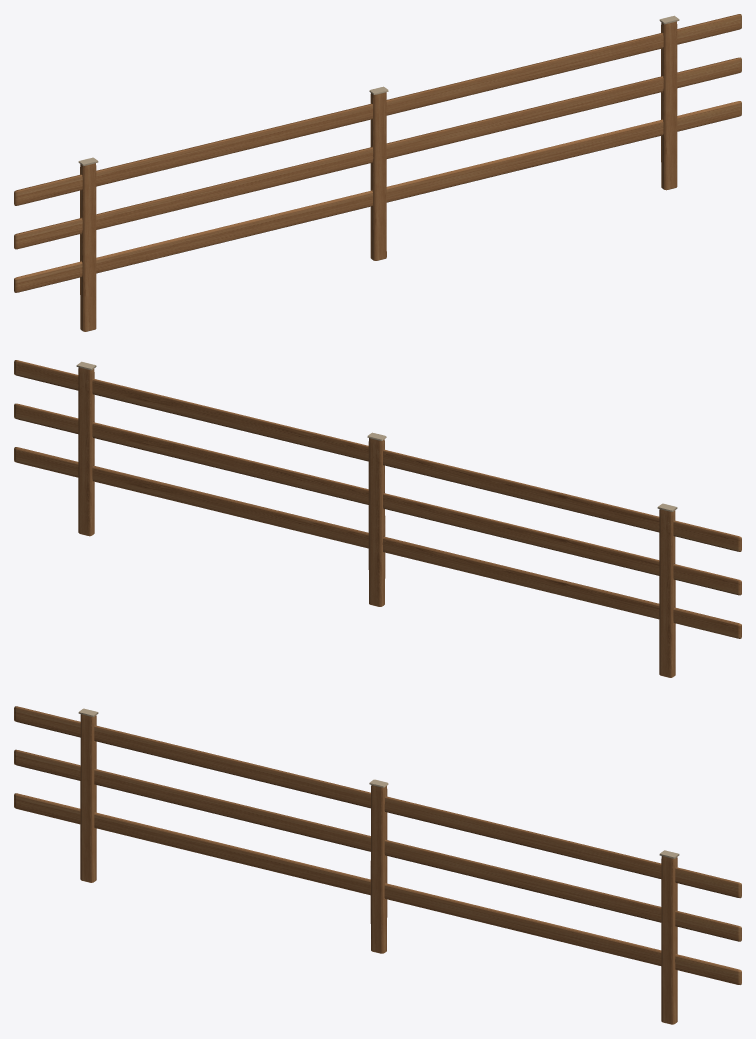
File: fence.fbx
3 views of the same model, one above another, from view 1: azimuth 30°, elevation 25°; view 2: azimuth 150°, elevation 25°; view 3: azimuth 330°, elevation 25° (orthographic).
Parts seen in each view (by area): view 1: _Wooden_Post_and_Rail_Fence_v1_l3:Wooden_Post_and_Rail_Fence; view 2: _Wooden_Post_and_Rail_Fence_v1_l3:Wooden_Post_and_Rail_Fence; view 3: _Wooden_Post_and_Rail_Fence_v1_l3:Wooden_Post_and_Rail_Fence.
Boxes of the visible parts, left/top/right/bottom form: _Wooden_Post_and_Rail_Fence_v1_l3:Wooden_Post_and_Rail_Fence: left=14, top=14, right=741, bottom=331; _Wooden_Post_and_Rail_Fence_v1_l3:Wooden_Post_and_Rail_Fence: left=14, top=360, right=741, bottom=677; _Wooden_Post_and_Rail_Fence_v1_l3:Wooden_Post_and_Rail_Fence: left=14, top=706, right=741, bottom=1024.
Size of the model in its own units: 328 by 72.6 by 3.93.
